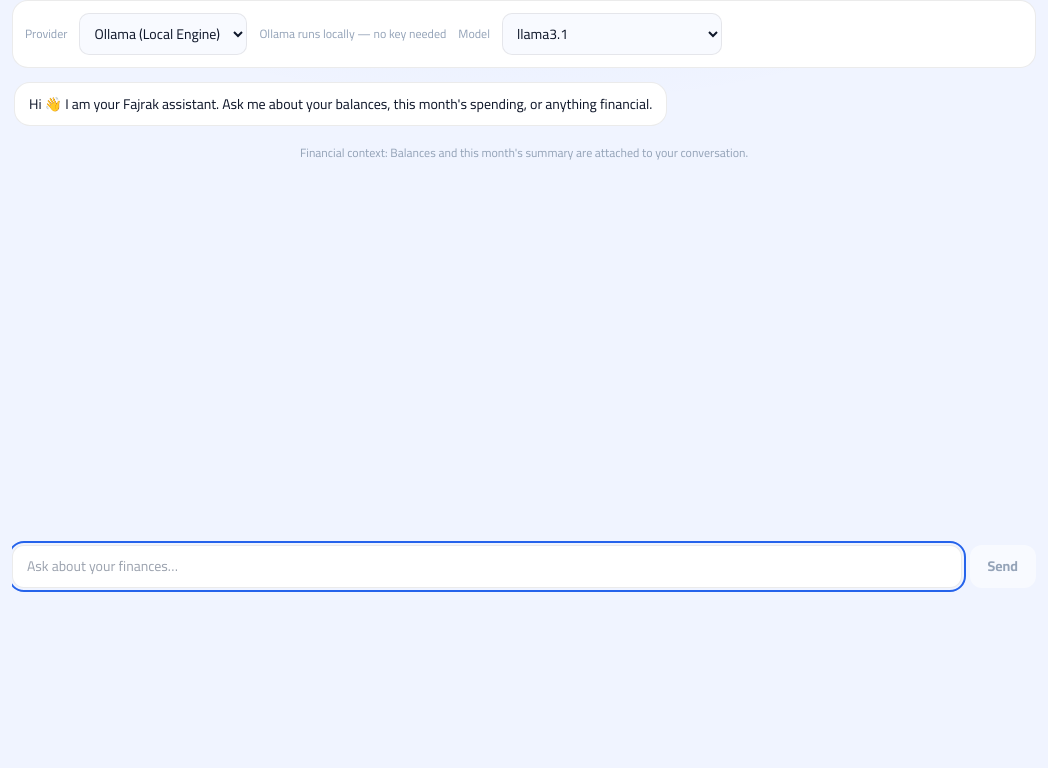
Test: ChatAssistant component › shows checking budgets trace and deep link to budgets
This screenshot has width=1048, height=768.
Select "OpenAI" in the dropdown named "Provider". click: (163, 34)
box: [79,13,247,55]
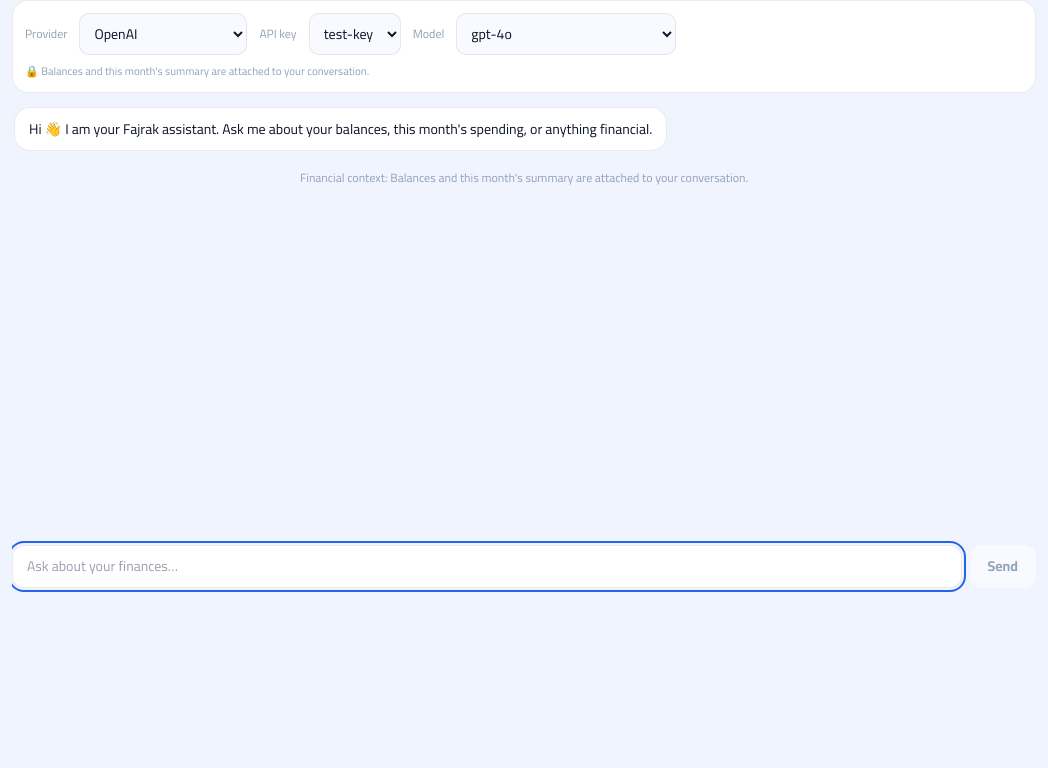
Select "test-key" in the dropdown named "API key". click: (355, 34)
box: [309,13,401,55]
Type "show my budgets" into the field with placeholder "Ask about your finances…". click: (487, 566)
box: [12,545,962,588]
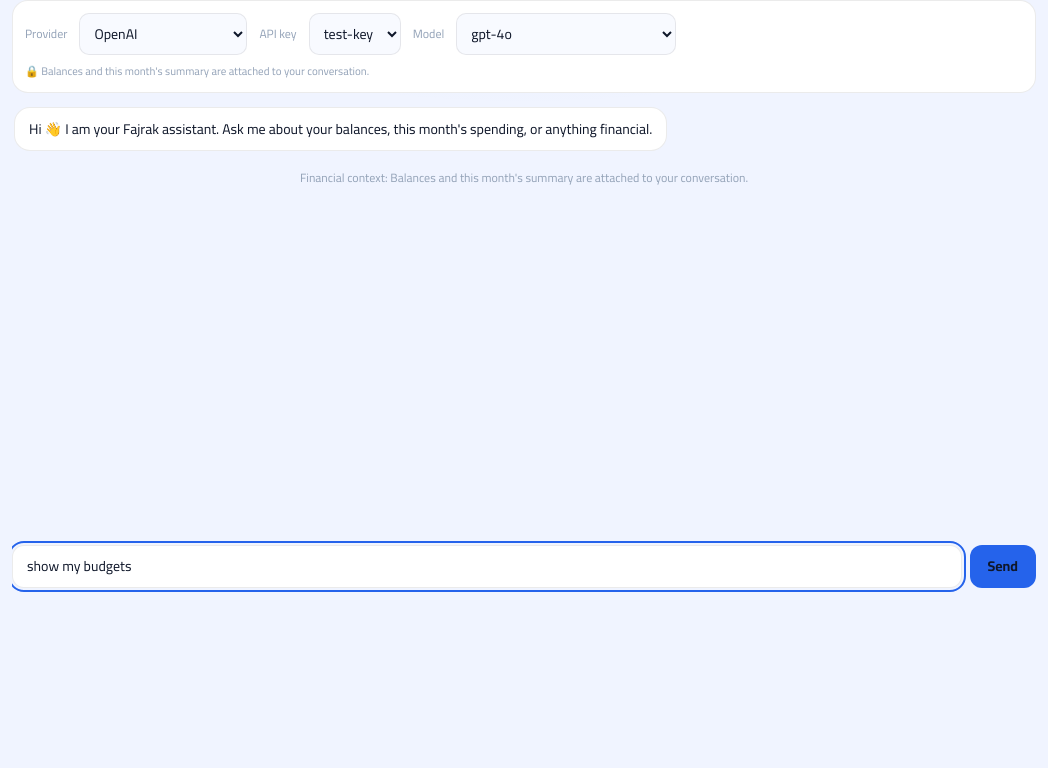
Check: the button labelled "Send" is enabled
Click the button labelled "Send". click: click(1003, 566)
box: [970,545,1036,588]
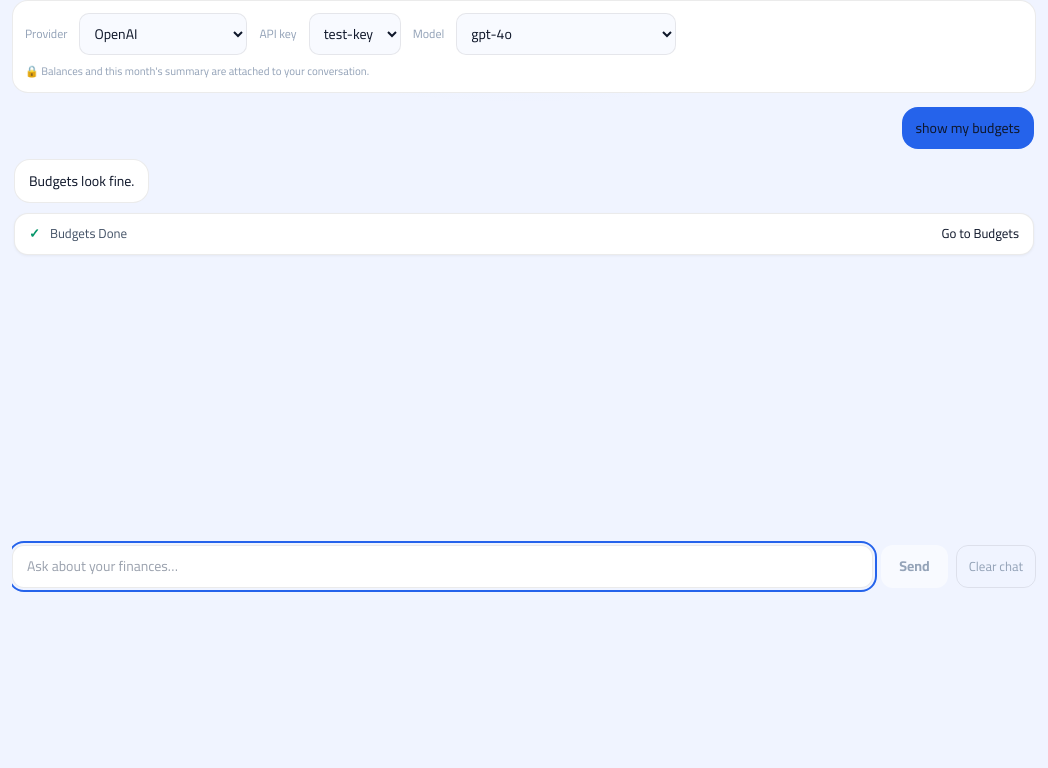
Check: the link "Go to Budgets" is shown, box [941,224,1019,244]
